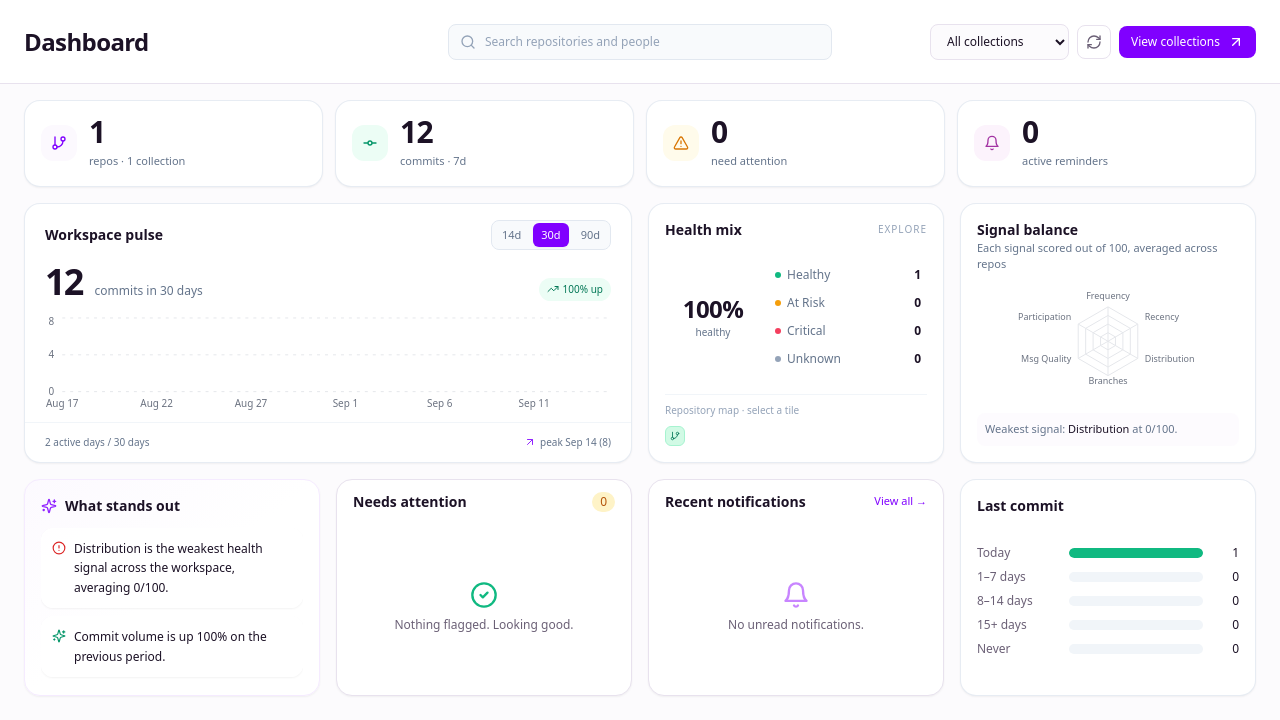
Test: DashboardPage — workspace pulse › re-scopes the chart when a different range is picked
Expected: the text "12" next to "commits in" is shown, [45,257,83,306]
Click the button "14d" at (512, 235), box [494,222,529,247]
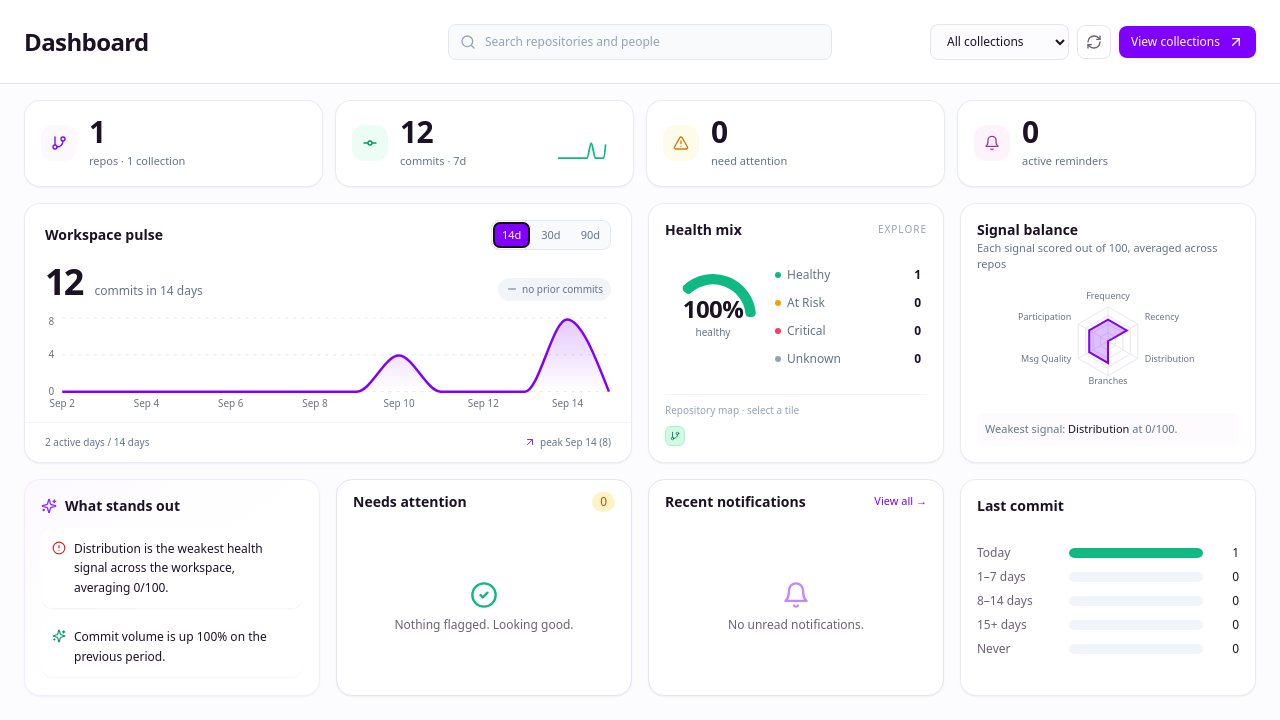
Expected: the text "12" next to "commits in" is shown, [45,257,83,306]
Now the text "commits in 14 days" is shown, box [95,283,203,299]
